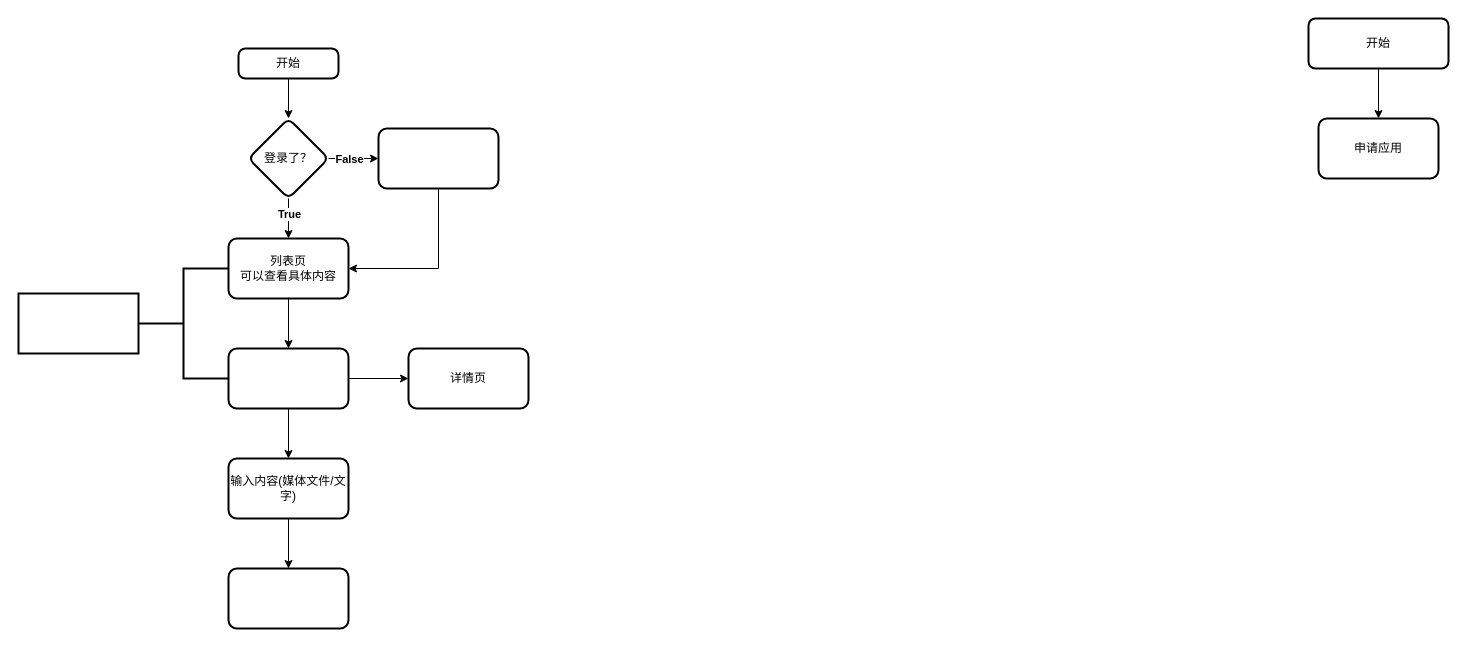
This 1466x646 diagram has some shape labels left out. The shapes that lost their labels are listed below. From the top down, each one's centre as x and y in pixels, then its label:
At (438,158): "跳转到登录页面登录".
At (78,323): "分享页".
At (288,378): "体验页".
At (288,598): "请求接口，显示内容".
